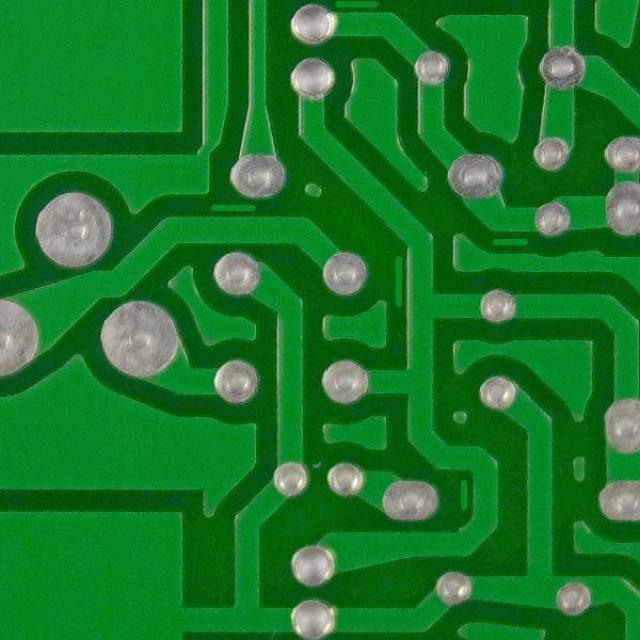Spurious_Cooper: (206, 198, 260, 216), (390, 252, 406, 311), (488, 233, 534, 250), (330, 0, 383, 12), (456, 476, 472, 515)
